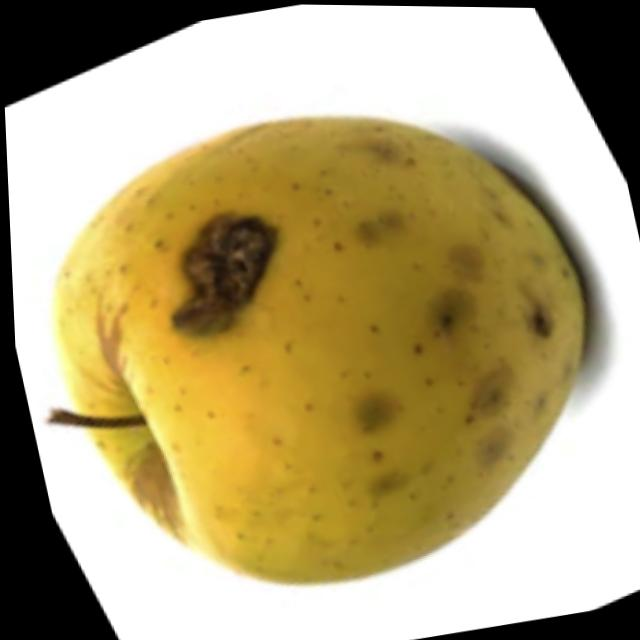organik: (1, 29, 640, 614)
